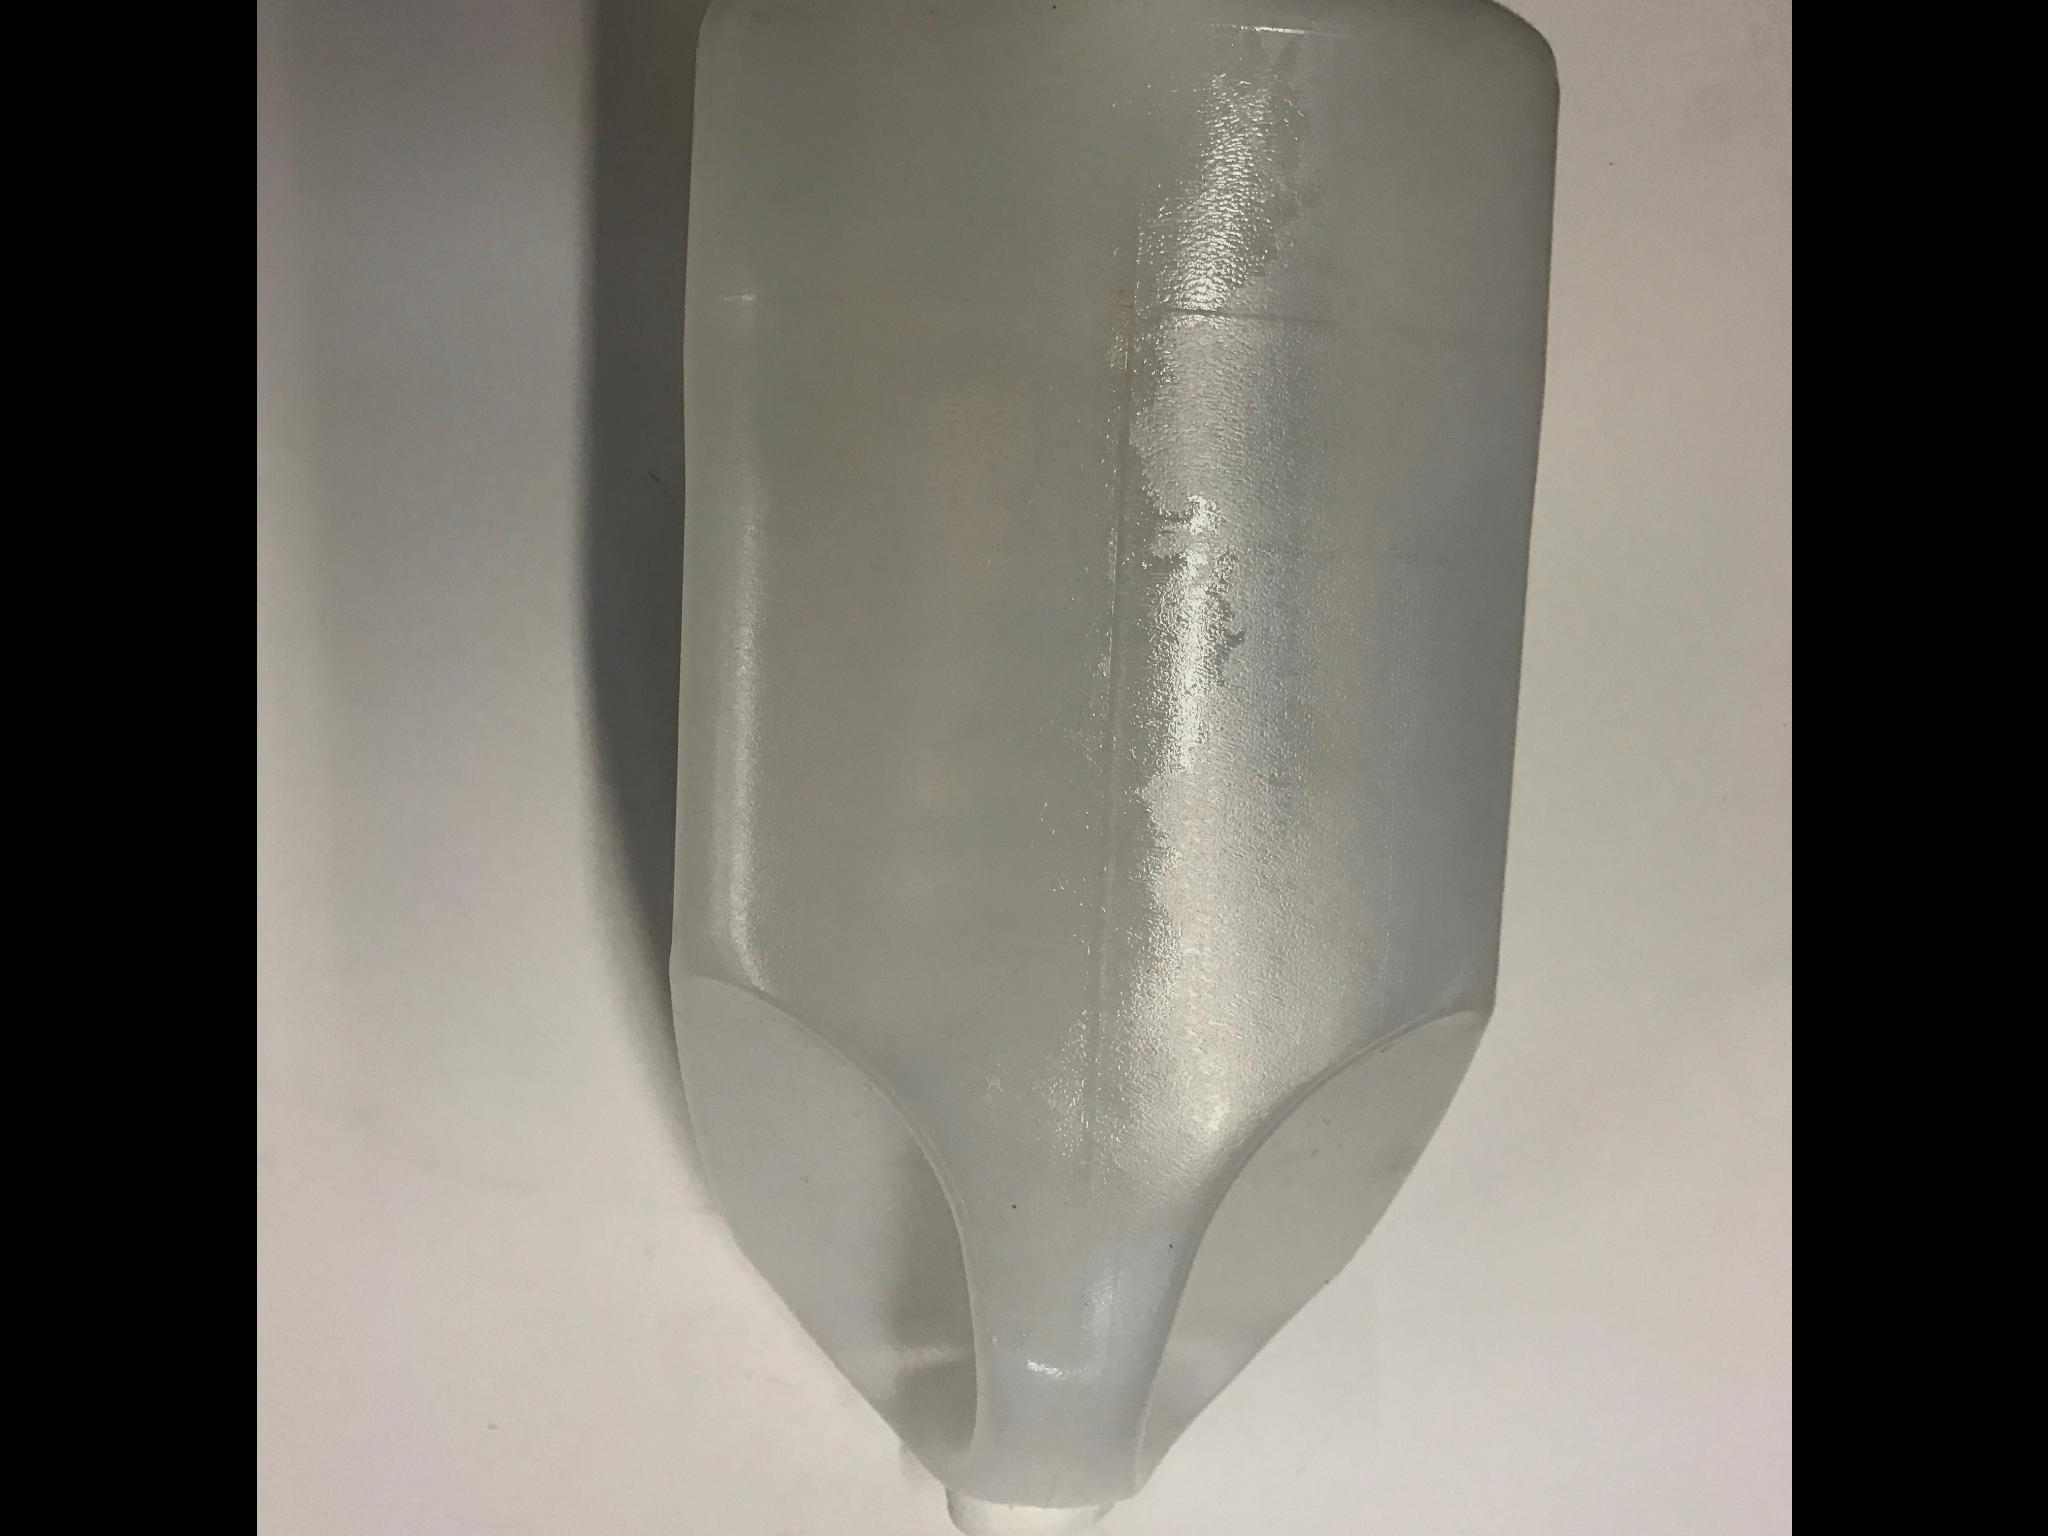Plastic: (639, 0, 1577, 1534)
